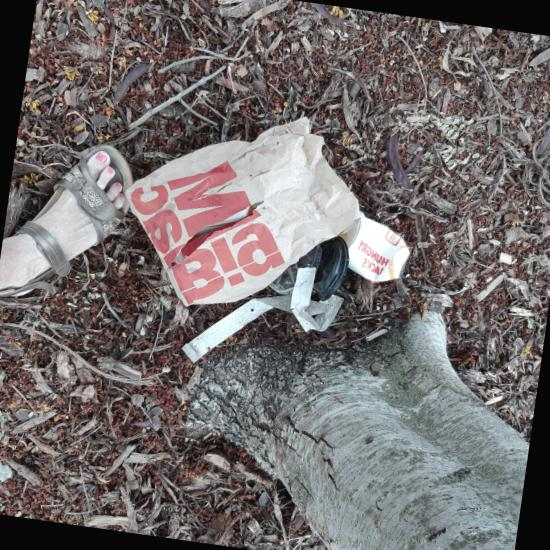Broken glass: (351, 112, 393, 155)
Other plastic: (390, 236, 431, 286), (408, 287, 441, 328), (302, 258, 326, 274), (304, 225, 311, 261)
Plastic film: (400, 42, 550, 244)
Styrofoam piece: (453, 344, 497, 366), (396, 183, 410, 224)
